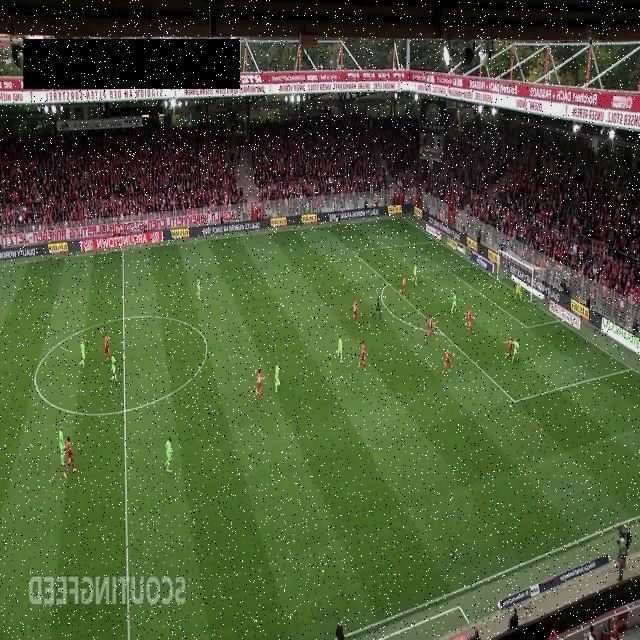Corner: (399, 191, 405, 220)
GoalKeeper: (513, 282, 524, 304)
Referee: (372, 296, 382, 321), (336, 210, 342, 224)
TEAM 1: (63, 436, 77, 478), (424, 314, 436, 344), (441, 346, 452, 378), (254, 368, 264, 400), (504, 338, 516, 362), (358, 339, 367, 371), (464, 307, 474, 335), (103, 332, 111, 364), (353, 298, 359, 324), (402, 276, 406, 298)
TEAM 2: (164, 436, 174, 472), (59, 424, 66, 466), (109, 352, 117, 384), (79, 337, 86, 369), (512, 338, 520, 364), (336, 333, 343, 362), (274, 361, 280, 394), (450, 292, 457, 314), (412, 262, 418, 286), (196, 274, 201, 300)
